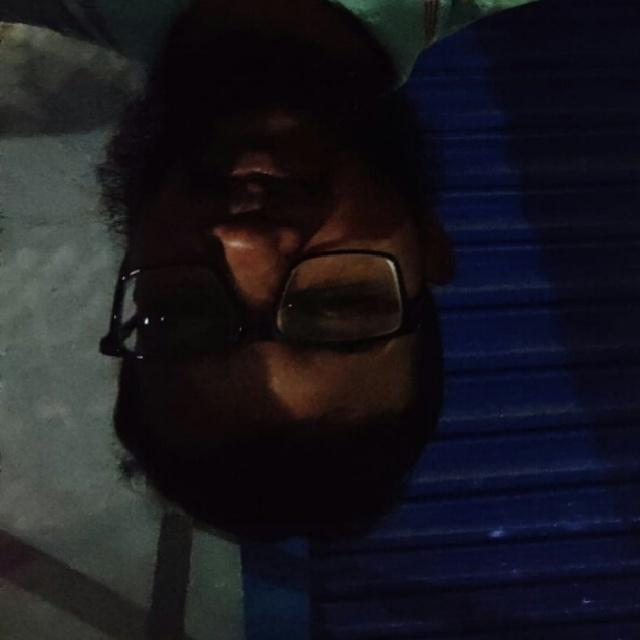Disgust: (60, 40, 477, 532)
